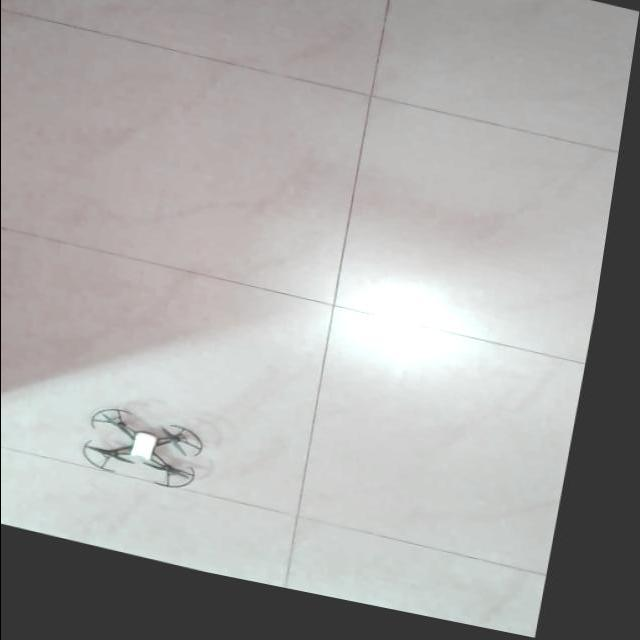drone: (99, 425, 221, 503)
